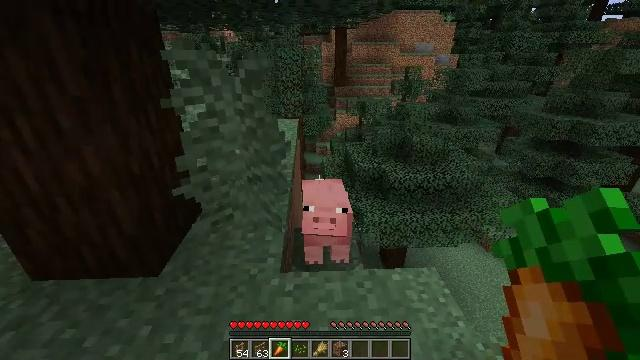pig: (302, 179, 353, 266)
